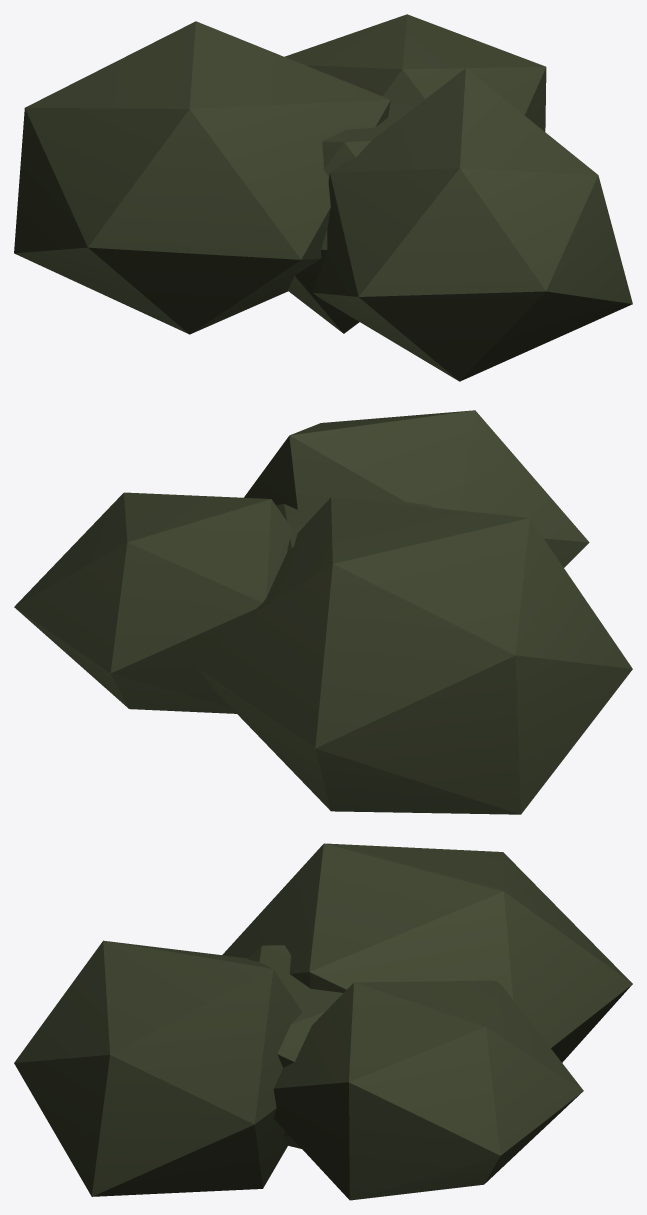
The model's file is shrub_a.glb.
The picture shows the model from 3 angles, top to bottom: view 1: azimuth 30°, elevation 25°; view 2: azimuth 150°, elevation 25°; view 3: azimuth 270°, elevation 25°; orthographic projection. The views are drawn at different scales.
Parts seen in each view (by area): view 1: Body_LOD0; view 2: Body_LOD0; view 3: Body_LOD0.
Boxes of the visible parts, x1,y1,x2,y2 form: Body_LOD0: (14, 14, 632, 381); Body_LOD0: (14, 410, 632, 814); Body_LOD0: (14, 843, 632, 1200).
Bounding box in the file's own units: 2.23 × 1 × 2.39.
